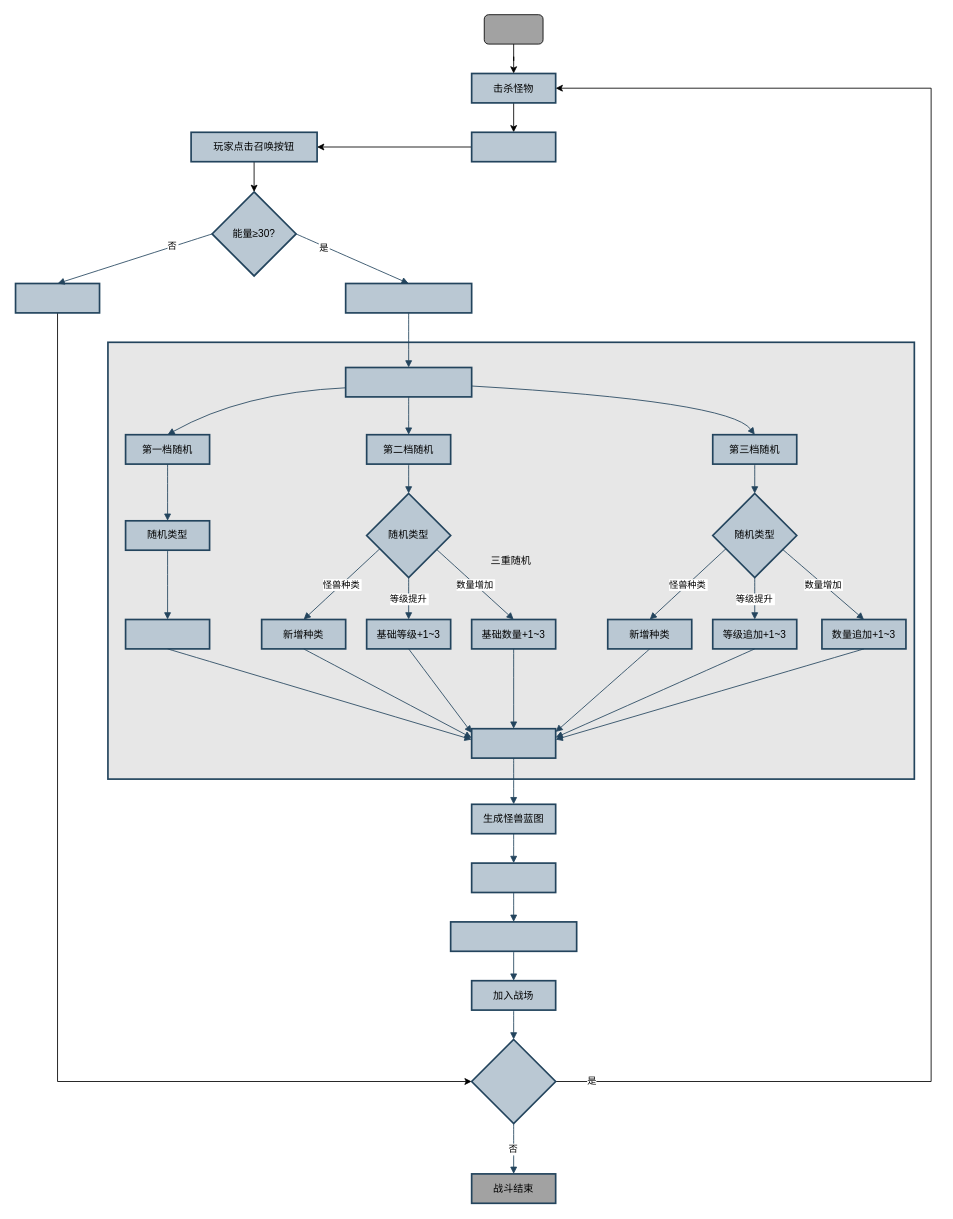
The diagram is 953 pixels wide and 1219 high, and some of its shapes have lost their labels. The box of each missing label's shape, as (x1, y1, x2, y2) in pixels:
合并随机结果: (470, 727, 556, 759)
在部署平台生成单位: (449, 921, 577, 952)
城墙是否存活?: (470, 1038, 556, 1124)
开始战斗: (483, 14, 543, 44)
扣除30能量: (344, 282, 472, 313)
显示预览界面: (470, 862, 556, 893)
积累基因能量: (470, 131, 556, 162)
继续战斗: (14, 282, 100, 313)
触发三重随机: (344, 366, 472, 397)
随机怪兽种类: (124, 618, 210, 649)
